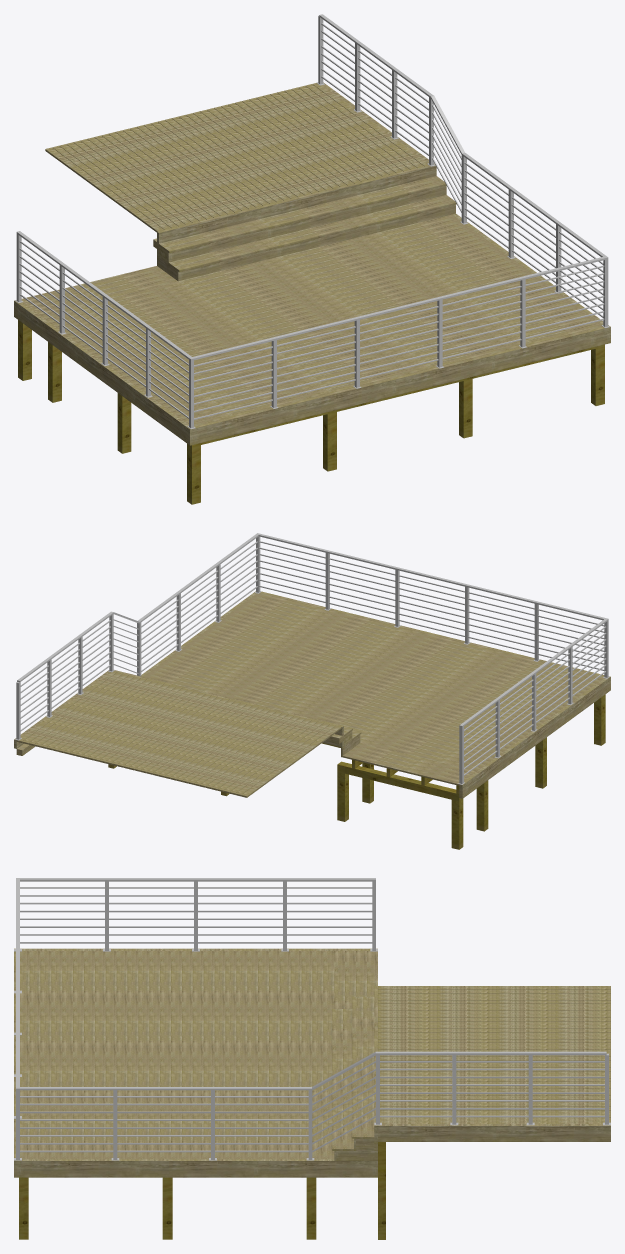
The picture shows the model from 3 angles, top to bottom: view 1: azimuth 30°, elevation 25°; view 2: azimuth 150°, elevation 25°; view 3: azimuth 270°, elevation 25°; orthographic projection. The views are drawn at different scales.
Parts seen in each view (by area): view 1: Mesh21_Wood_Lumber_ButtJoined_0, Mesh1_Wood_Lumber_ButtJoined_0, Mesh20_Wood_Lumber_ButtJoined_0, Mesh87_Wood_Lumber_ButtJoined_0, Mesh25_Wood_Lumber_ButtJoined_0, Mesh101_Wood_Lumber_ButtJoined_0, Mesh110_Wood_Lumber_ButtJoined_0, Mesh104_Wood_Lumber_ButtJoined_0, Mesh112_Wood_Lumber_ButtJoined_0, Mesh103_Wood_Lumber_ButtJoined_0, Mesh102_Wood_Lumber_ButtJoined_0, Mesh125_Wood_Lumber_ButtJoined_0 (+80 smaller); view 2: Mesh20_Wood_Lumber_ButtJoined_0, Mesh100_Wood_Lumber_ButtJoined_0, Mesh102_Wood_Lumber_ButtJoined_0, Mesh101_Wood_Lumber_ButtJoined_0, Mesh104_Wood_Lumber_ButtJoined_0, Mesh103_Wood_Lumber_ButtJoined_0, Mesh123_Wood_Lumber_ButtJoined_0, Mesh124_Wood_Lumber_ButtJoined_0, Mesh108_Wood_Lumber_ButtJoined_0, Mesh115_Wood_Lumber_ButtJoined_0, Mesh106_Wood_Lumber_ButtJoined_0, Mesh105_Wood_Lumber_ButtJoined_0 (+73 smaller); view 3: Mesh24_Wood_Lumber_ButtJoined_0, Mesh1_Wood_Lumber_ButtJoined_0, Mesh100_Wood_Lumber_ButtJoined_0, Mesh102_Wood_Lumber_ButtJoined_0, Mesh105_Wood_Lumber_ButtJoined_0, Mesh106_Wood_Lumber_ButtJoined_0, Mesh114_Wood_Lumber_ButtJoined_0, Mesh115_Wood_Lumber_ButtJoined_0, Mesh122_Wood_Lumber_ButtJoined_0, Mesh123_Wood_Lumber_ButtJoined_0, Mesh109_Wood_Lumber_ButtJoined_0, Mesh124_Wood_Lumber_ButtJoined_0 (+71 smaller).
Part boxes in pixels (x1,y1,x2,y2): Mesh21_Wood_Lumber_ButtJoined_0: (194, 326, 607, 444); Mesh1_Wood_Lumber_ButtJoined_0: (153, 82, 436, 256); Mesh20_Wood_Lumber_ButtJoined_0: (14, 300, 194, 445); Mesh87_Wood_Lumber_ButtJoined_0: (167, 186, 446, 263); Mesh25_Wood_Lumber_ButtJoined_0: (177, 204, 455, 281); Mesh101_Wood_Lumber_ButtJoined_0: (66, 234, 483, 338); Mesh110_Wood_Lumber_ButtJoined_0: (108, 264, 525, 368); Mesh104_Wood_Lumber_ButtJoined_0: (71, 237, 488, 341); Mesh112_Wood_Lumber_ButtJoined_0: (113, 268, 530, 372); Mesh103_Wood_Lumber_ButtJoined_0: (76, 241, 493, 345); Mesh102_Wood_Lumber_ButtJoined_0: (65, 230, 478, 334); Mesh125_Wood_Lumber_ButtJoined_0: (187, 322, 602, 426); Mesh20_Wood_Lumber_ButtJoined_0: (459, 676, 610, 798); Mesh100_Wood_Lumber_ButtJoined_0: (143, 673, 494, 761); Mesh102_Wood_Lumber_ButtJoined_0: (148, 670, 495, 758); Mesh101_Wood_Lumber_ButtJoined_0: (152, 667, 503, 754); Mesh104_Wood_Lumber_ButtJoined_0: (157, 664, 507, 751); Mesh103_Wood_Lumber_ButtJoined_0: (161, 660, 511, 748); Mesh123_Wood_Lumber_ButtJoined_0: (245, 599, 596, 686); Mesh124_Wood_Lumber_ButtJoined_0: (250, 596, 600, 683); Mesh108_Wood_Lumber_ButtJoined_0: (174, 651, 525, 738); Mesh115_Wood_Lumber_ButtJoined_0: (209, 625, 560, 712); Mesh106_Wood_Lumber_ButtJoined_0: (170, 654, 520, 741); Mesh105_Wood_Lumber_ButtJoined_0: (165, 657, 516, 745); Mesh24_Wood_Lumber_ButtJoined_0: (14, 1159, 377, 1177); Mesh1_Wood_Lumber_ButtJoined_0: (374, 985, 610, 1150); Mesh100_Wood_Lumber_ButtJoined_0: (290, 951, 301, 1159); Mesh102_Wood_Lumber_ButtJoined_0: (279, 951, 290, 1159); Mesh105_Wood_Lumber_ButtJoined_0: (236, 951, 247, 1159); Mesh106_Wood_Lumber_ButtJoined_0: (225, 951, 236, 1159); Mesh114_Wood_Lumber_ButtJoined_0: (138, 951, 149, 1159); Mesh115_Wood_Lumber_ButtJoined_0: (127, 951, 138, 1159); Mesh122_Wood_Lumber_ButtJoined_0: (51, 951, 62, 1159); Mesh123_Wood_Lumber_ButtJoined_0: (40, 951, 51, 1159); Mesh109_Wood_Lumber_ButtJoined_0: (192, 951, 203, 1159); Mesh124_Wood_Lumber_ButtJoined_0: (29, 951, 40, 1159).
Size of the model in its own units: 254 by 105 by 302.
